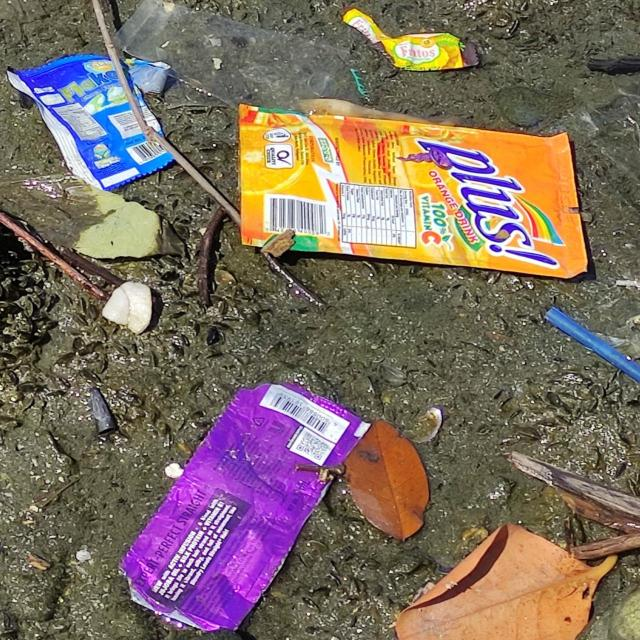plastic_waste: (117, 381, 375, 636), (238, 102, 592, 282), (6, 55, 178, 193), (343, 9, 466, 73)
